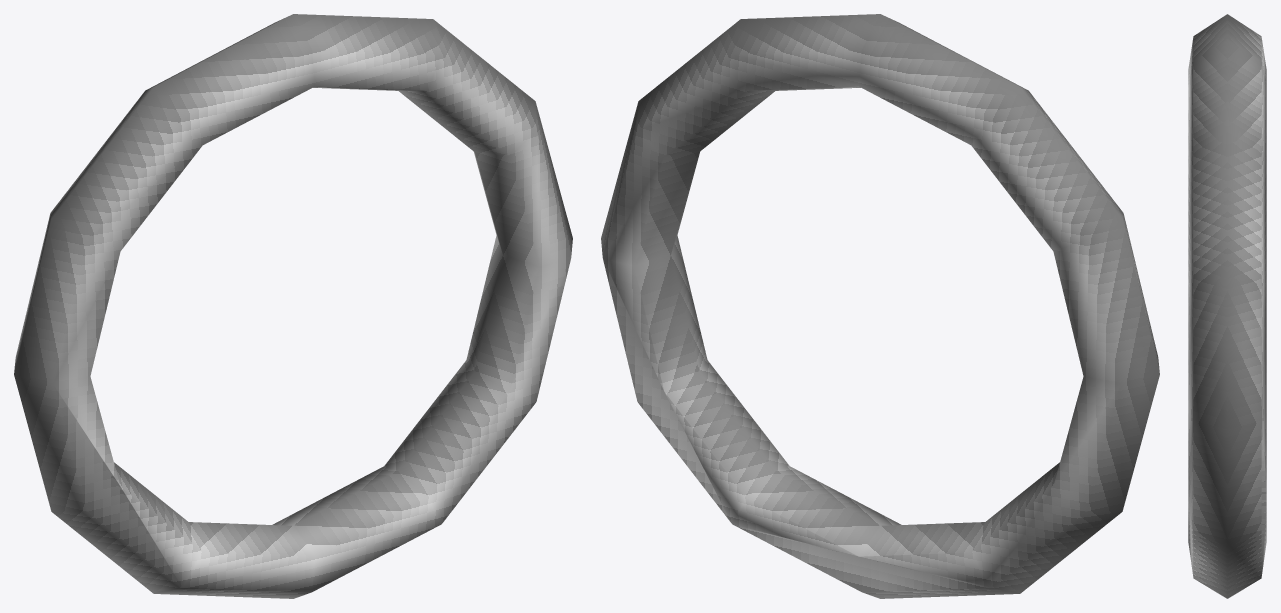
The model's file is swimming_ring.glb.
3 renders of one model, left to right at view 1: azimuth 30°, elevation 25°; view 2: azimuth 150°, elevation 25°; view 3: azimuth 270°, elevation 25°, orthographic. The views are drawn at different scales.
Visible parts, largest first — view 1: ring; view 2: ring; view 3: ring.
Boxes of the visible parts, x1,y1,x2,y2 form: ring: (14,14,572,598); ring: (601,14,1159,598); ring: (1188,14,1266,598).
Bounding box in the file's own units: 6 × 6 × 0.8037.
Materials: 1 (1 with a texture image).
